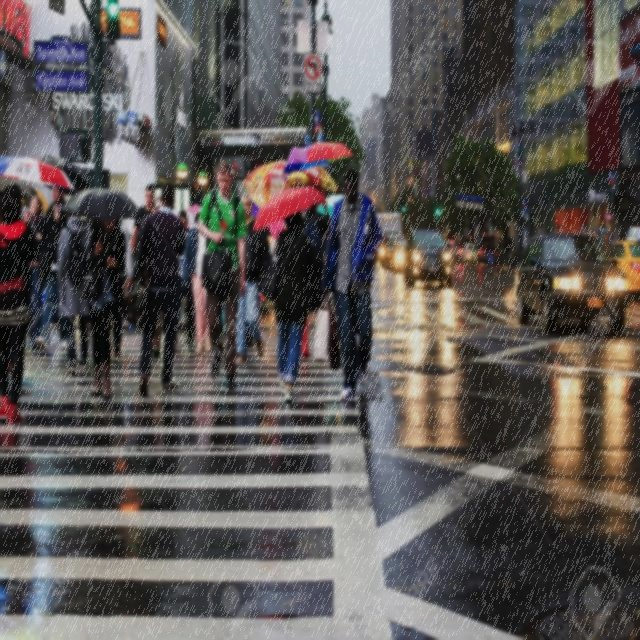pessoa: (320, 168, 386, 400), (196, 158, 248, 389), (133, 180, 188, 393), (260, 208, 313, 404), (0, 182, 39, 427), (84, 218, 127, 400), (272, 210, 314, 369), (234, 192, 270, 365), (34, 184, 69, 354), (130, 184, 164, 358), (57, 210, 92, 374), (182, 206, 212, 356), (172, 208, 196, 347), (112, 219, 134, 359), (26, 194, 45, 352), (538, 234, 628, 266), (301, 198, 332, 266), (412, 233, 446, 248), (467, 232, 482, 256), (486, 237, 494, 270), (398, 242, 408, 252), (388, 236, 396, 248), (508, 234, 514, 250)
